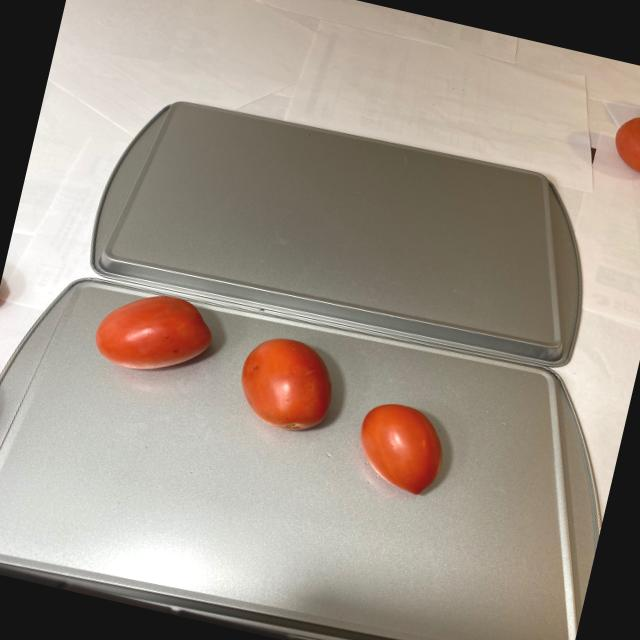tomato: (72, 280, 472, 510), (606, 72, 640, 190)
